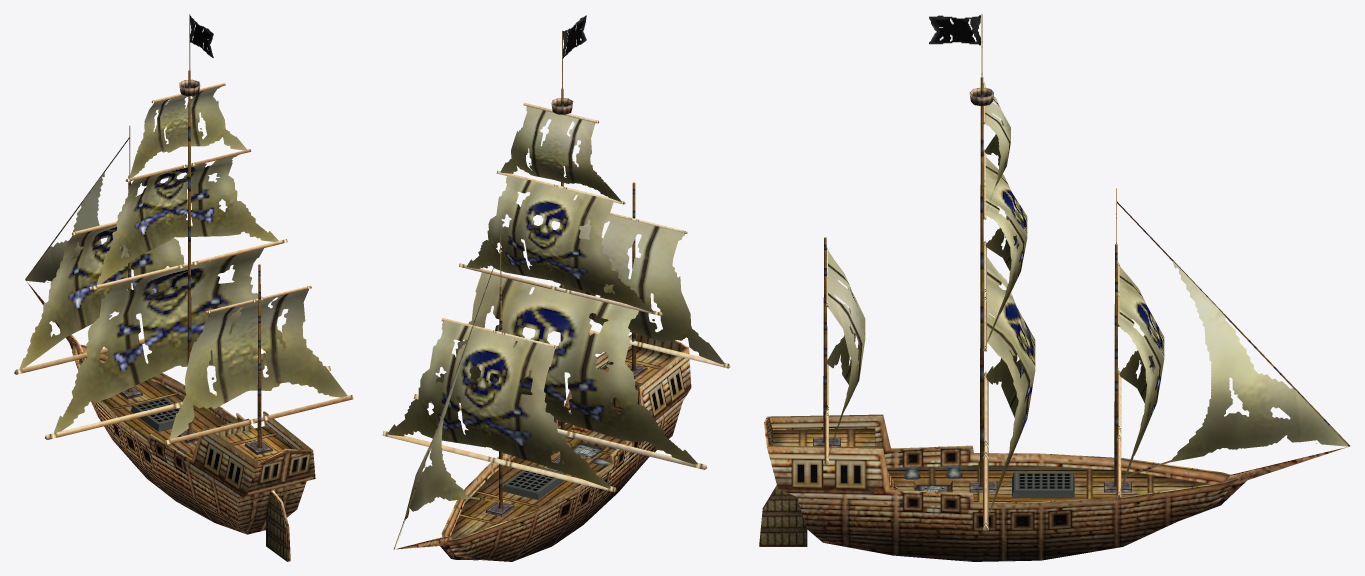
Rendered from ship_origin.obj.
3 renders of one model, left to right at view 1: azimuth 30°, elevation 25°; view 2: azimuth 150°, elevation 25°; view 3: azimuth 270°, elevation 25°, orthographic. The views are drawn at different scales.
Visible parts, largest first — view 1: ship_01, ship_01_mirrored; view 2: ship_01; view 3: ship_01, ship_01_mirrored, ship_01_mirrored1.
Boxes of the visible parts, <box> form: ship_01: <box>14,14,353,561</box>; ship_01_mirrored: <box>187,70,191,434</box>; ship_01: <box>382,15,730,561</box>; ship_01: <box>759,14,1350,561</box>; ship_01_mirrored: <box>980,77,984,486</box>; ship_01_mirrored1: <box>1114,244,1118,486</box>.
Size of the model in its own units: 2114 by 3419 by 3404.
